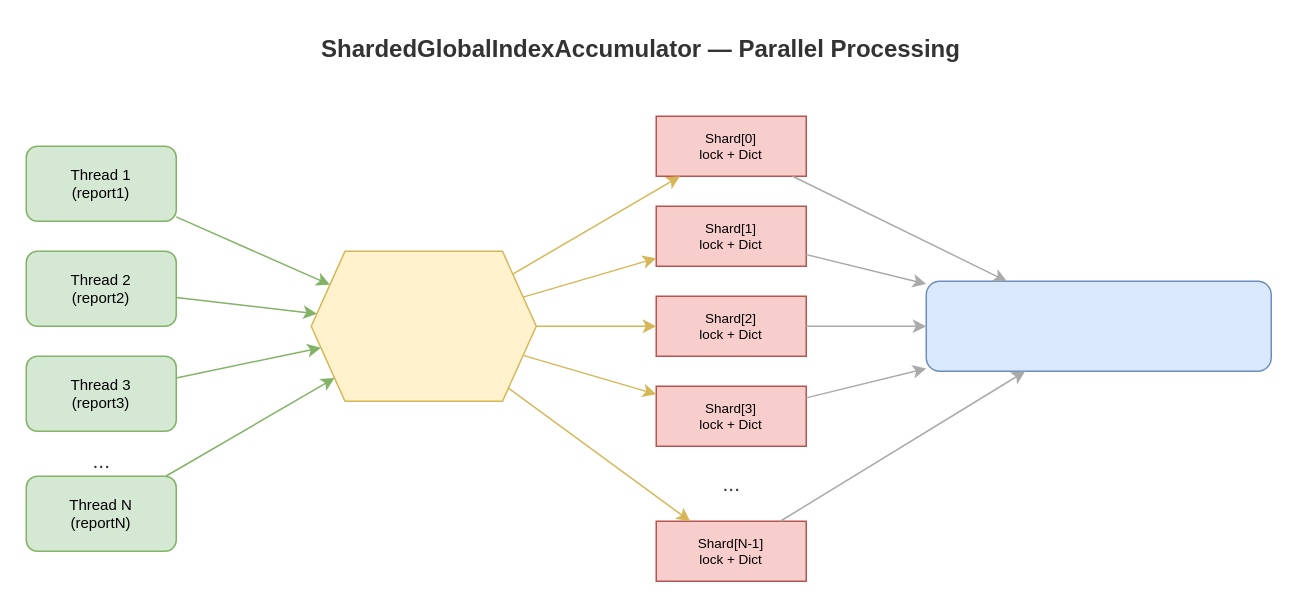
The diagram is 1298 pixels wide and 608 high, and some of its shapes have lost their labels. The shapes that lost their labels are listed below. From the top down, each one's centre as x and y in pixels, then its label:
pixel 423 325: key.GetHashCode() & (shardCount - 1) (bitwise AND, no division)
pixel 1098 325: Build() aggregate all shards → GlobalComparisonResult
